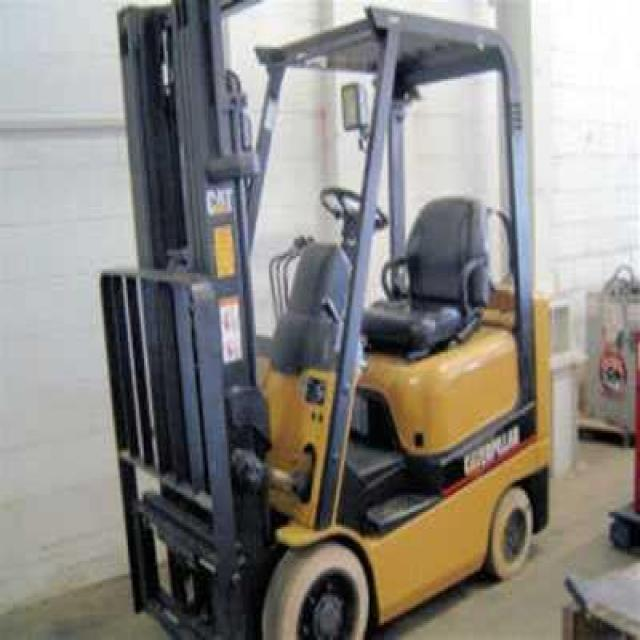Chariot elevateur: (96, 0, 554, 638)
